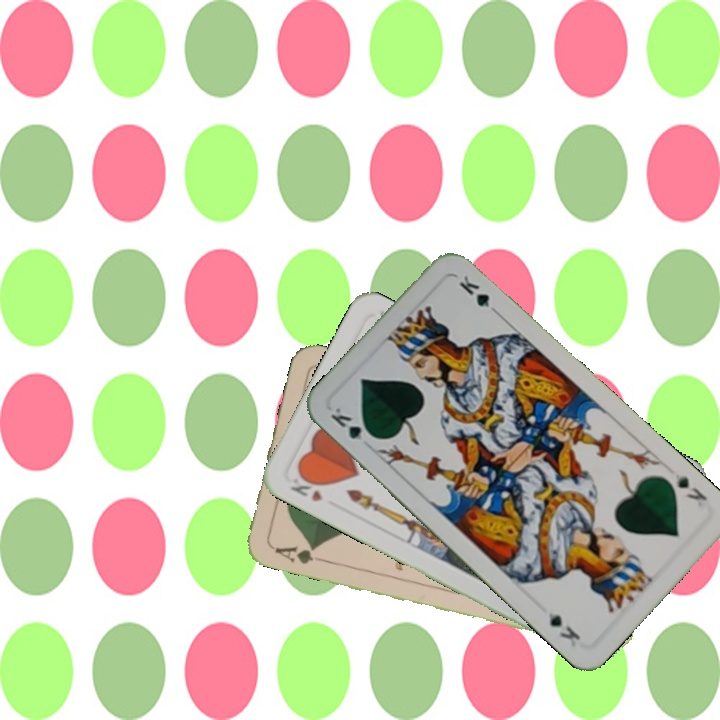GA: (268, 541, 326, 567)
GK: (326, 403, 379, 443), (670, 469, 711, 504)
HK: (286, 468, 327, 505)
